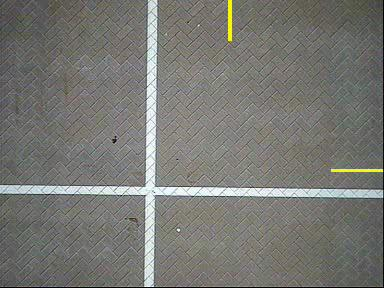groundmarker_2: (123, 72, 170, 147)
